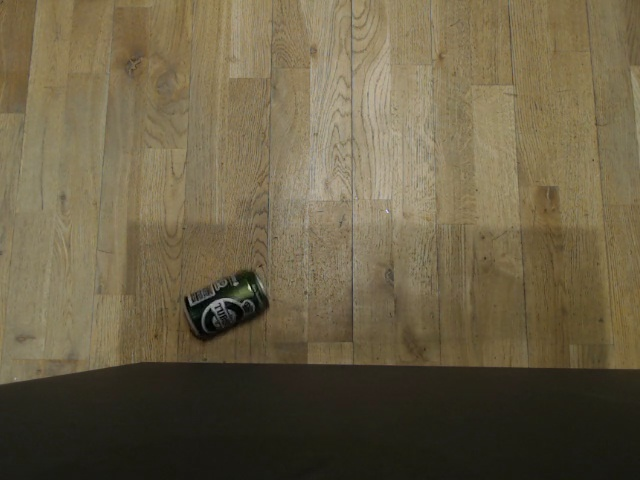beer: (178, 265, 275, 344)
